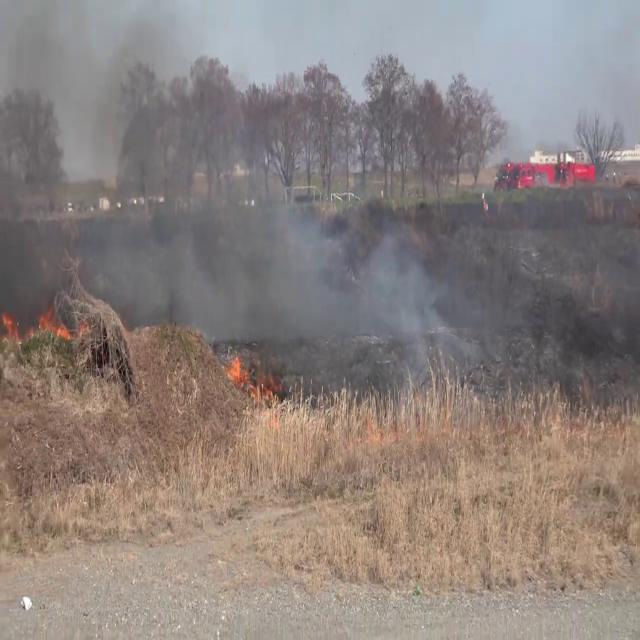Smoke: (0, 1, 461, 375)
